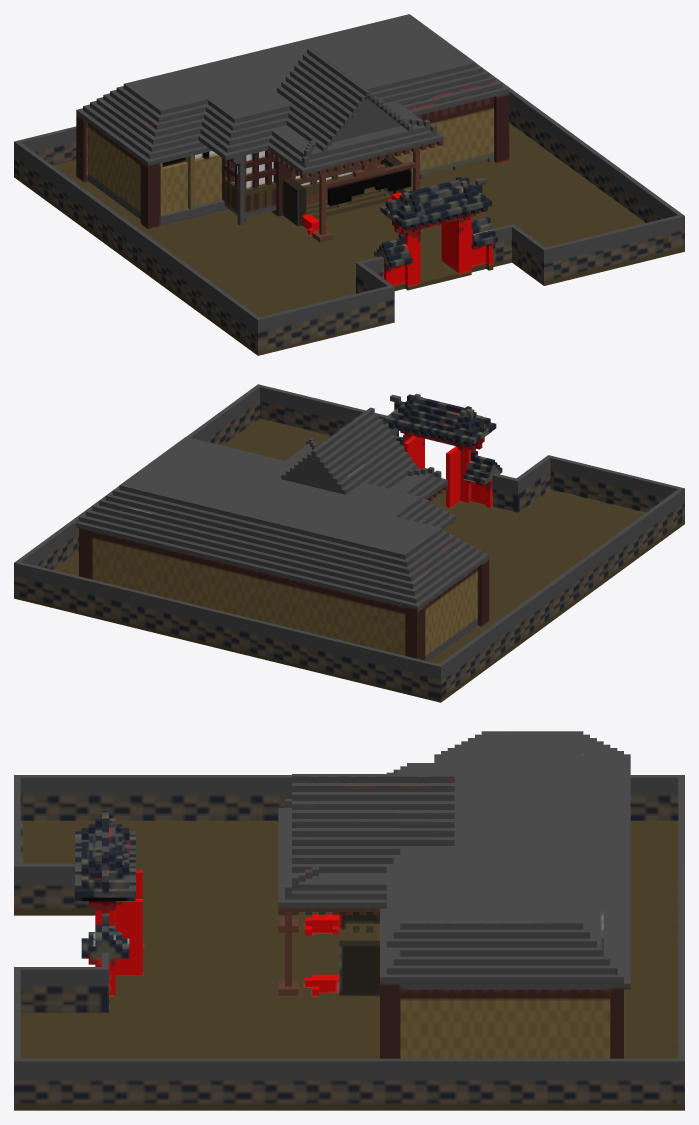
The model's file is senganen.glb.
3 views of the same model, one above another, from view 1: azimuth 30°, elevation 25°; view 2: azimuth 150°, elevation 25°; view 3: azimuth 270°, elevation 25° (orthographic). The views are drawn at different scales.
Visible parts, largest first — view 1: senganen; view 2: senganen; view 3: senganen.
Boxes of the visible parts, x1=… form: senganen: x1=14, y1=14, x2=684, y2=355; senganen: x1=14, y1=384, x2=684, y2=702; senganen: x1=14, y1=731, x2=684, y2=1110.
Bounding box in the file's own units: 2 × 0.62 × 1.98.
1 material, 1 textured.
